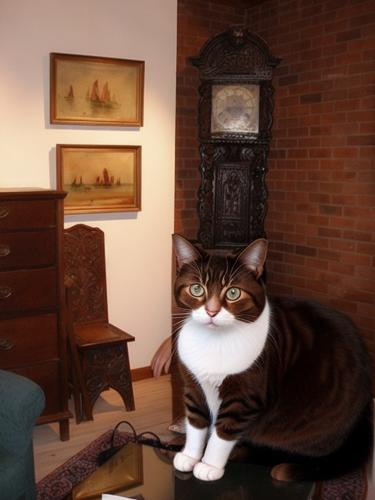cat: (171, 234, 373, 482)
chair: (61, 222, 138, 426), (1, 366, 50, 500)
person: (149, 254, 358, 467)
person/hand: (328, 365, 355, 419), (151, 335, 182, 382)
person/head: (272, 260, 309, 312)
